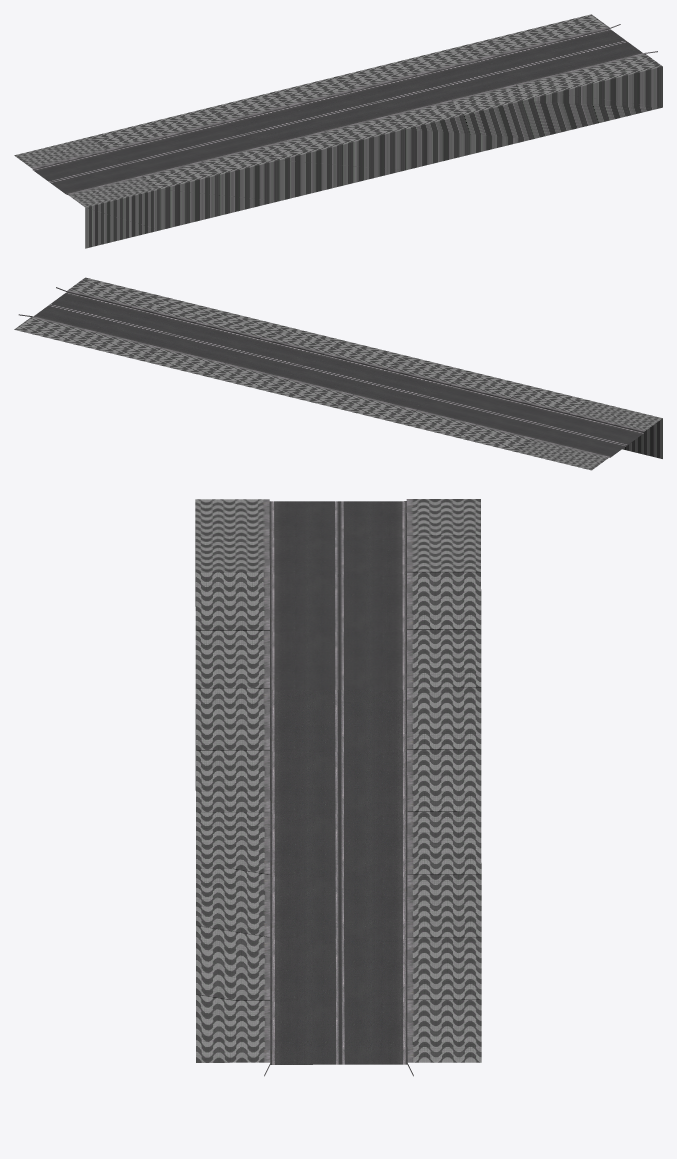
The model's file is roadssfs17.obj.
3 views of the same model, one above another, from view 1: azimuth 30°, elevation 25°; view 2: azimuth 150°, elevation 25°; view 3: azimuth 270°, elevation 25° (orthographic). The views are drawn at different scales.
Visible parts, largest first — view 1: ROADSsfs17; view 2: ROADSsfs17; view 3: ROADSsfs17.
Part boxes in pixels (<box>): ROADSsfs17: <box>14,14,662,248</box>; ROADSsfs17: <box>14,277,662,470</box>; ROADSsfs17: <box>195,499,481,1076</box>.
Bounding box in the file's own units: 91.74 × 6.1 × 19.28.
Materials: 2 (2 with a texture image).
